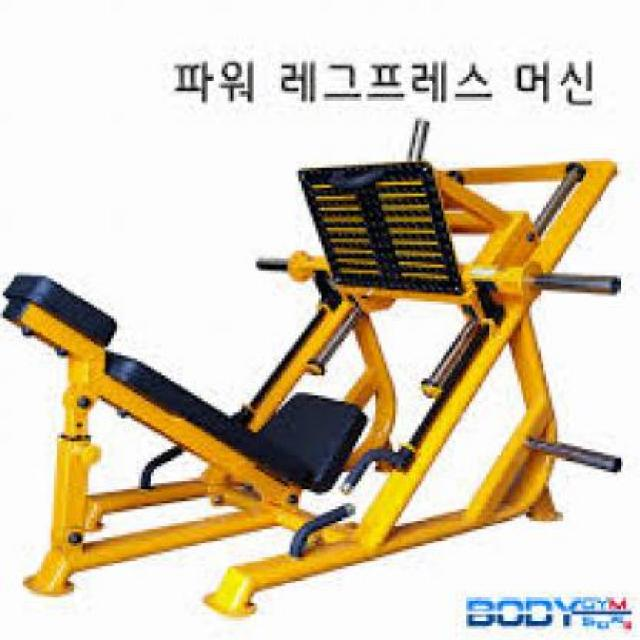leg press: (0, 109, 640, 631)
